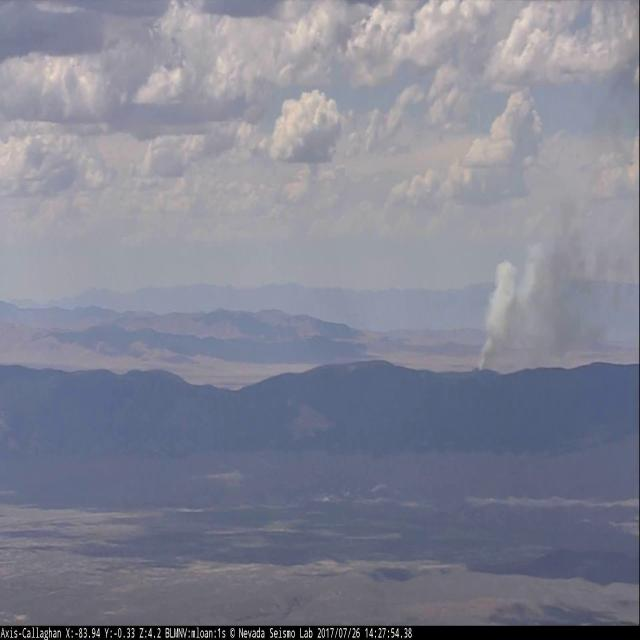smoke: (473, 65, 640, 369)
